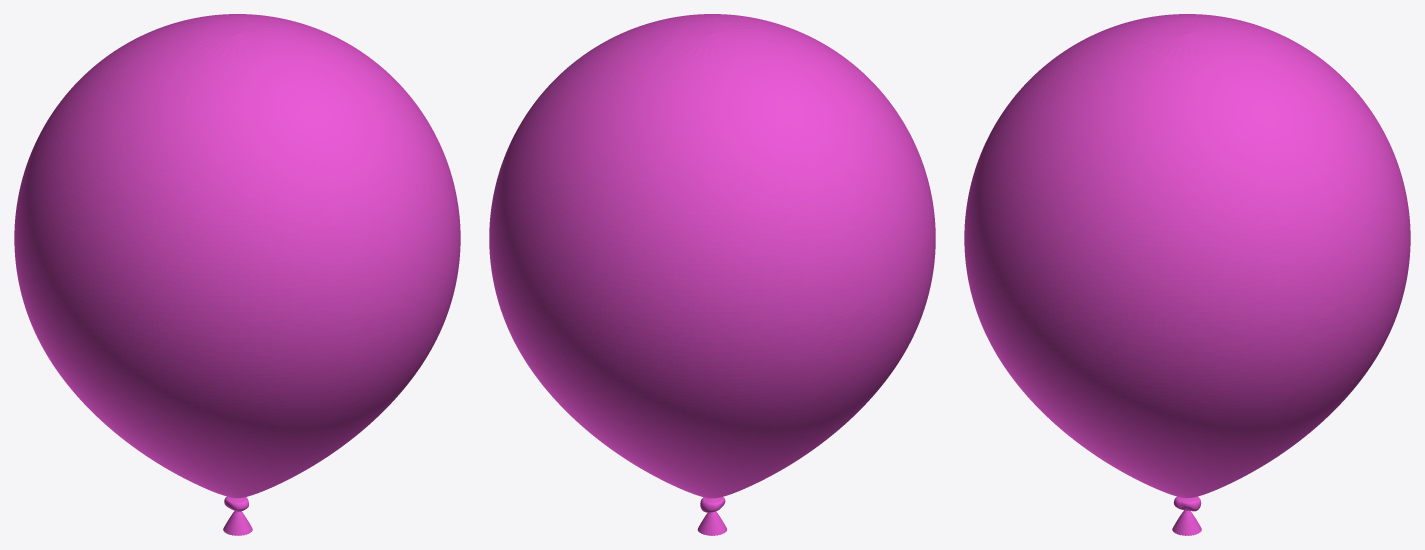
The model's file is balon.fbx.
3 views of the same model, side by side, from view 1: azimuth 30°, elevation 25°; view 2: azimuth 150°, elevation 25°; view 3: azimuth 270°, elevation 25° (orthographic).
Parts seen in each view (by area): view 1: Sphere; view 2: Sphere; view 3: Sphere.
Boxes of the visible parts, box(x1,y1,x2,y2) form: Sphere: box(14, 14, 460, 535); Sphere: box(489, 14, 935, 535); Sphere: box(964, 14, 1410, 535).
Size of the model in its own units: 197 by 242 by 197.
